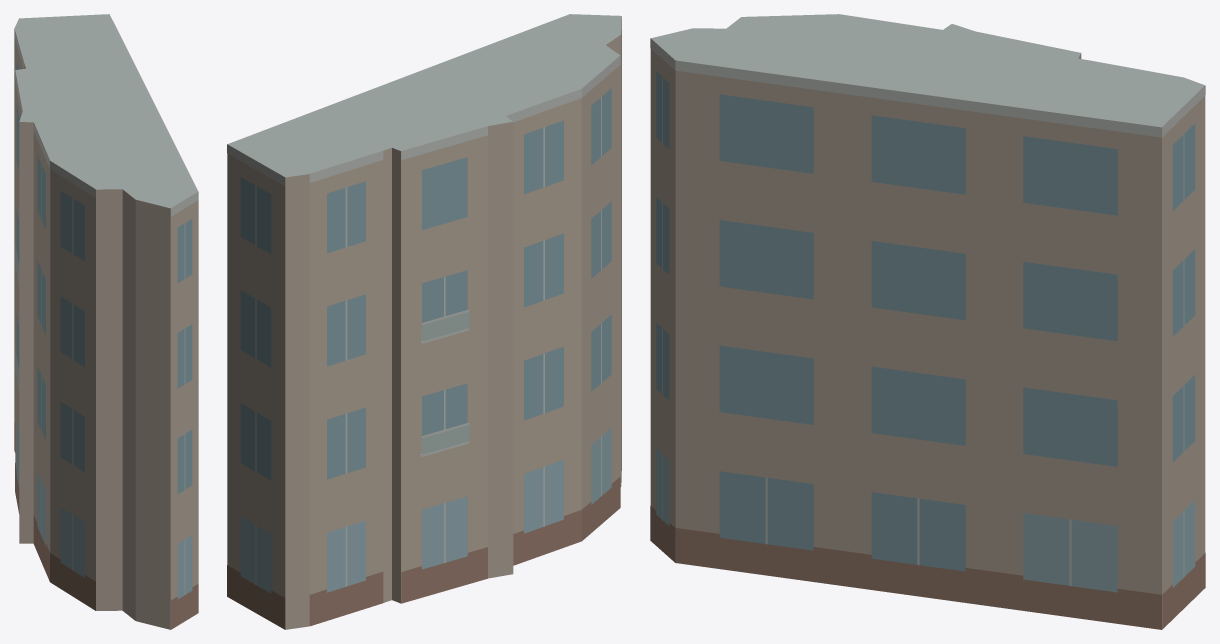
Rendered from survey-upis-32474962.glb.
3 renders of one model, left to right at view 1: azimuth 30°, elevation 25°; view 2: azimuth 150°, elevation 25°; view 3: azimuth 270°, elevation 25°, orthographic. The views are drawn at different scales.
Visible parts, largest first — view 1: survey-upis-32474962.tmp; view 2: survey-upis-32474962.tmp; view 3: survey-upis-32474962.tmp.
Boxes of the visible parts, x1,y1,x2,y2 form: survey-upis-32474962.tmp: [14, 14, 198, 629]; survey-upis-32474962.tmp: [227, 14, 621, 629]; survey-upis-32474962.tmp: [650, 14, 1205, 629].
Size of the model in its own units: 5.82 by 12 by 12.02.
